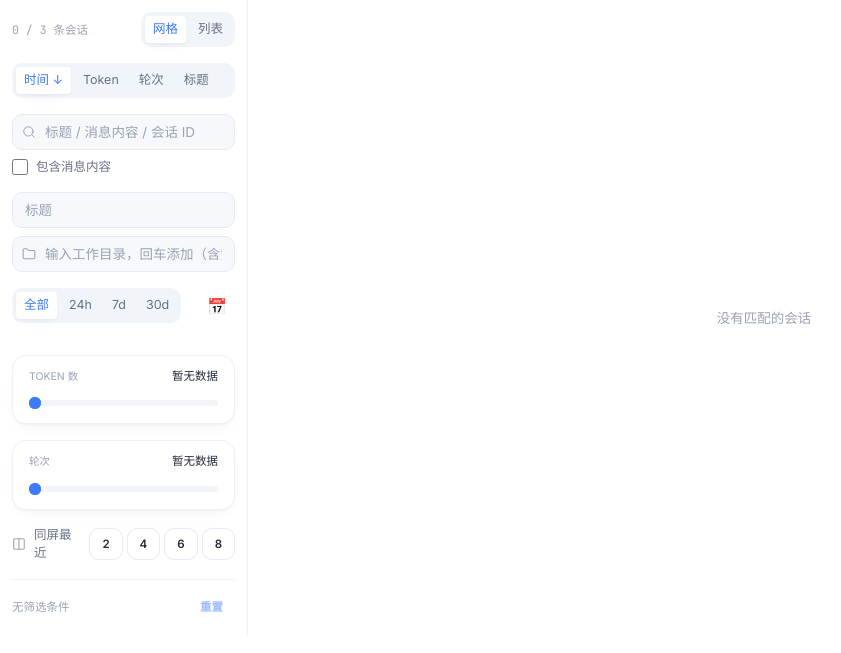
Test: SessionLibrary (t227) › t438 AC-007：搜索框占位文案说明搜索范围，输入后可一键清除
输入后出现清除 X；点击清空并移除 X。
In the field with placeholder "标题 / 消息内容 / 会话 ID": (124, 132) top-left (12, 114), bottom-right (235, 150), type "abc"
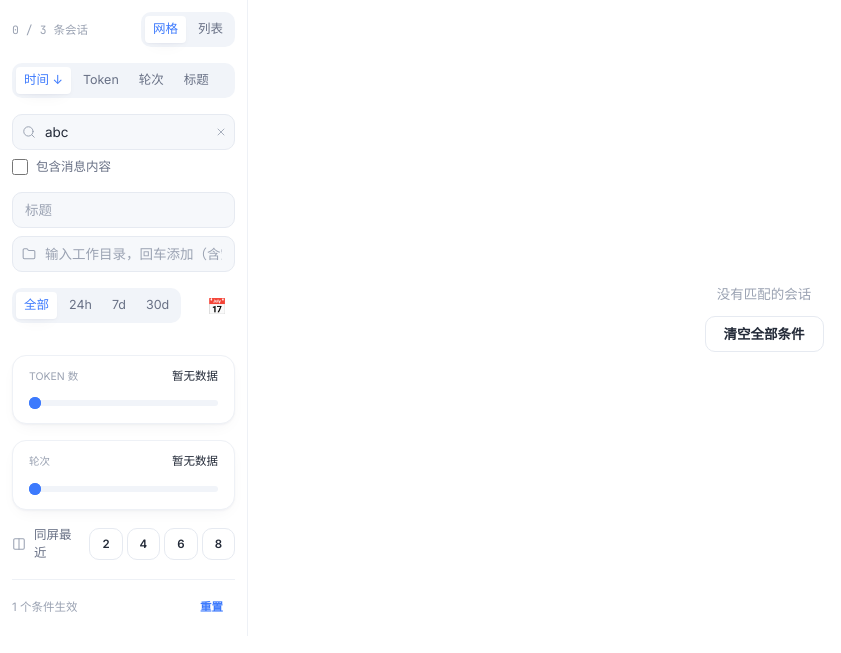
Click the button named "清除搜索": click(221, 132) top-left (215, 126), bottom-right (227, 138)
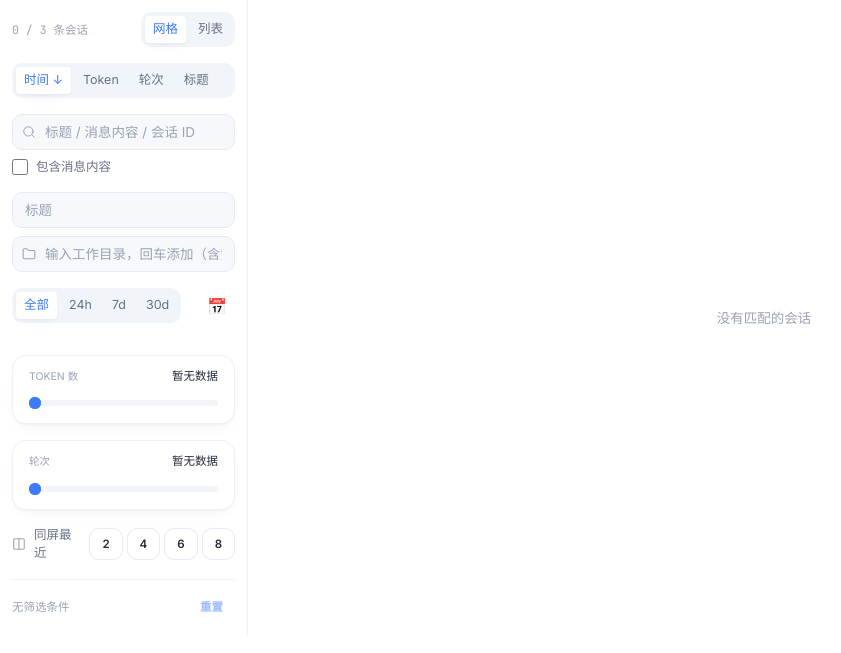
Expected: the field with placeholder "标题 / 消息内容 / 会话 ID" is empty, top-left (12, 114), bottom-right (235, 150)
Expected: the button "清除搜索" is gone
